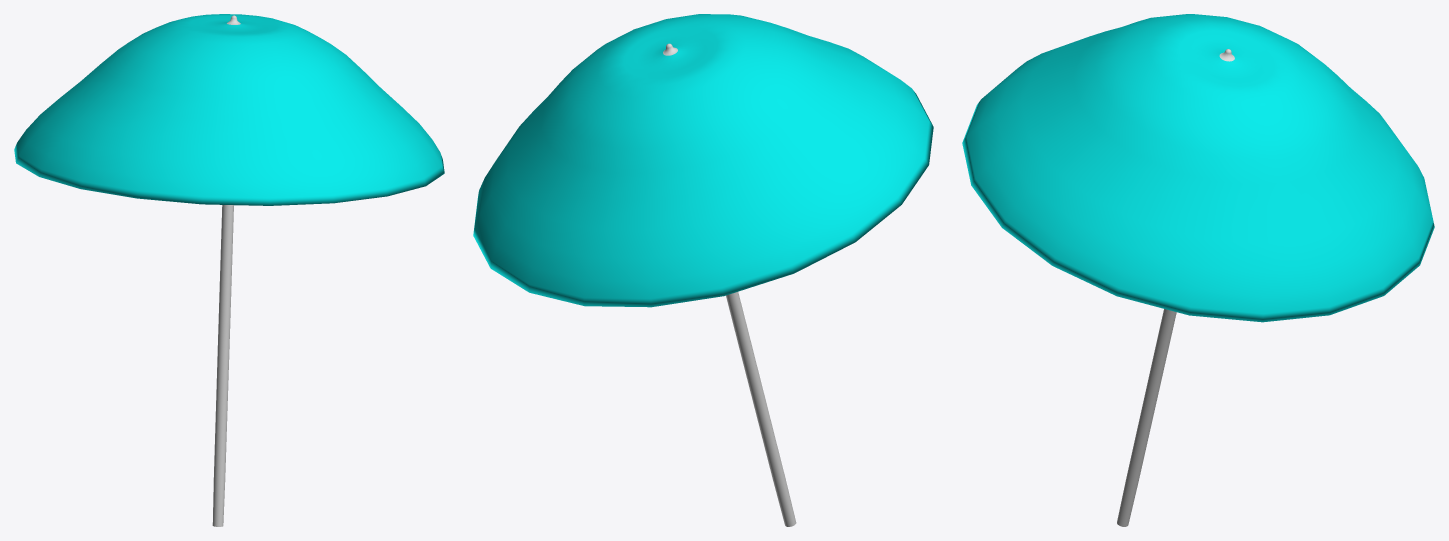
The model's file is umbrella.fbx.
The picture shows the model from 3 angles, left to right: view 1: azimuth 30°, elevation 25°; view 2: azimuth 150°, elevation 25°; view 3: azimuth 270°, elevation 25°; orthographic projection. The views are drawn at different scales.
Parts seen in each view (by area): view 1: polySurface34; view 2: polySurface34; view 3: polySurface34.
Part boxes in pixels (x1,y1,x2,y2): polySurface34: (14, 14, 444, 526); polySurface34: (473, 14, 933, 526); polySurface34: (962, 14, 1434, 526).
Size of the model in its own units: 97.78 by 116 by 97.14.
